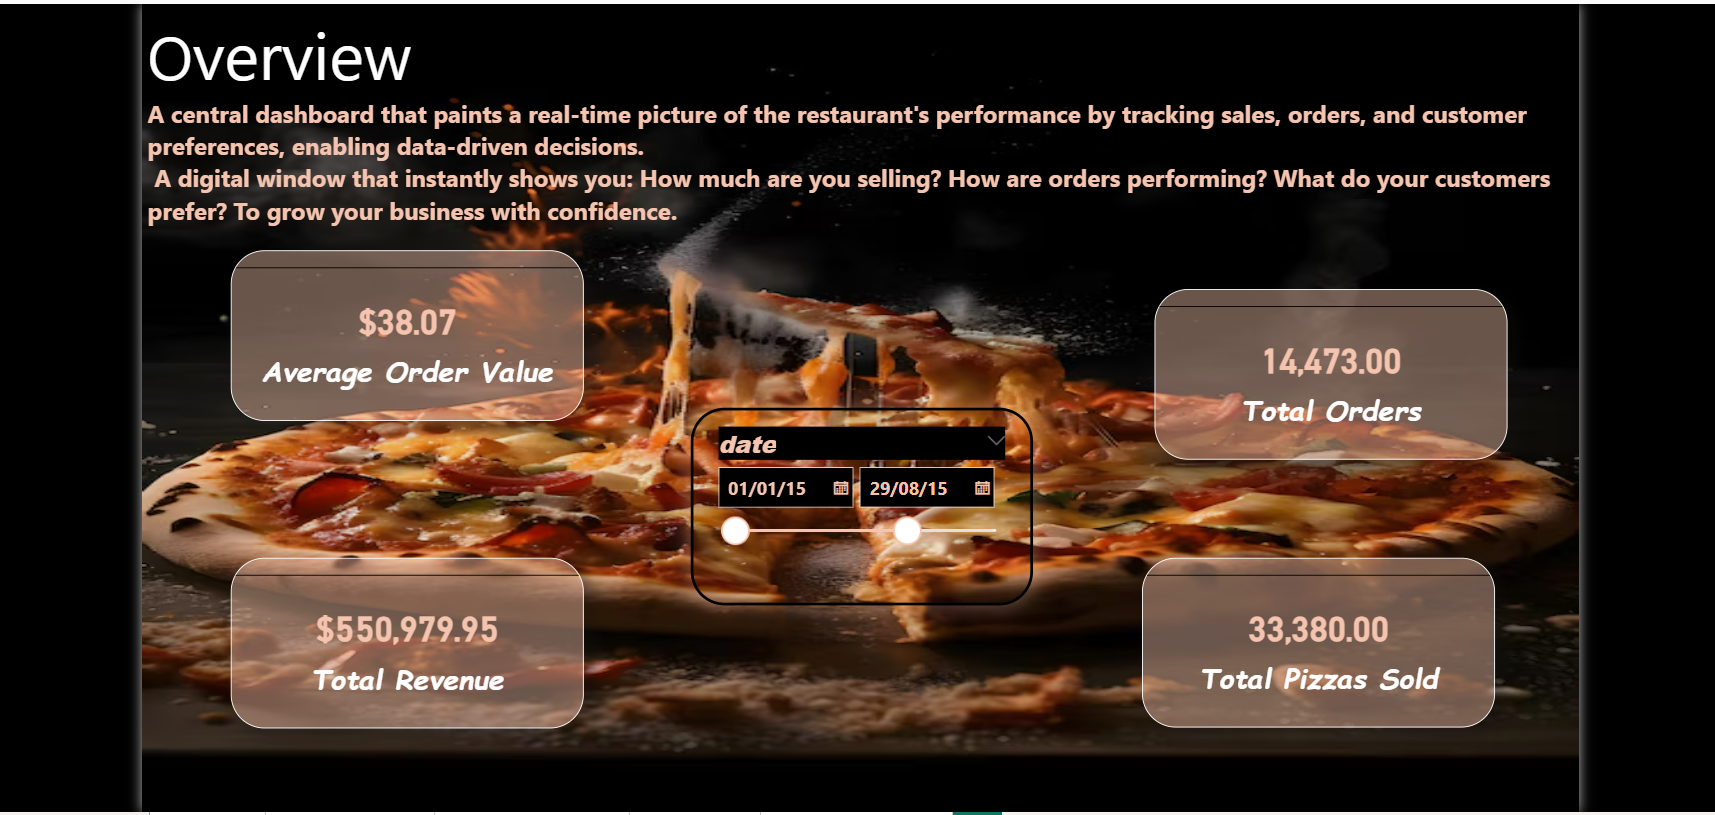

The dashboard page shown, as its layout file describes it:
{"tool":"powerbi","page":{"name":"over view","canvas":[1280,720],"ordinal":0},"visuals":[{"type":"card","fields":{"Values":["order_details.Average Order Value"]},"box":[79.6,219.6,314.2,152.3],"z":0},{"type":"card","fields":{"Values":["orders_Lookup.Total Orders"]},"box":[901.5,253.9,314.2,152.3],"z":1000},{"type":"card","fields":{"Values":["order_details.Total Pizzas Sold"]},"box":[890.6,492.6,314.2,150.9],"z":2000},{"type":"card","fields":{"Values":["order_details.Total Revenue"]},"box":[79.6,492.6,314.2,152.3],"z":3000},{"type":"textbox","box":[0,0,1280.3,209.9],"z":4000},{"type":"slicer","fields":{"Values":["orders_Lookup.date"]},"box":[488.5,359.5,304.6,175.6],"z":5000}]}

Visuals, with their boxes on the page's 1280x720 design canvas (x1, y1, x2, y2). These are canvas units, not pixel positions in the 1715x815 screenshot, which may show the page scaled, cropped or inside an application window:
card - order_details.Average Order Value: [80, 220, 394, 372]
card - orders_Lookup.Total Orders: [902, 254, 1216, 406]
card - order_details.Total Pizzas Sold: [891, 493, 1205, 644]
card - order_details.Total Revenue: [80, 493, 394, 645]
textbox: [0, 0, 1280, 210]
slicer - orders_Lookup.date: [488, 360, 793, 535]
